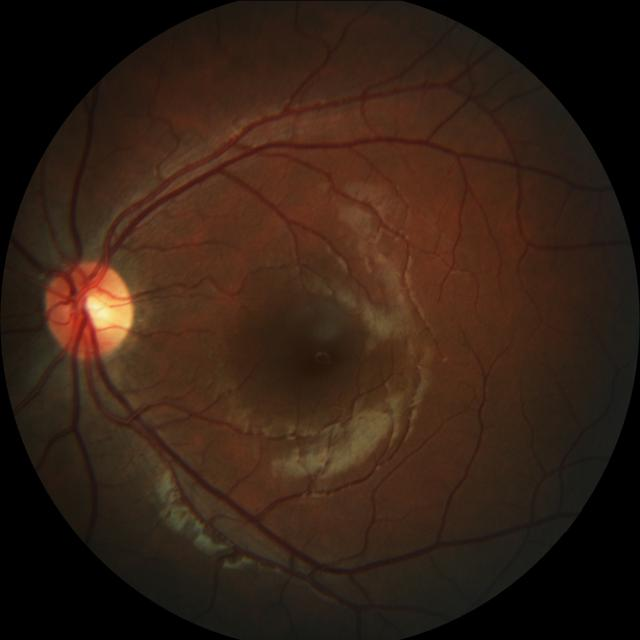OC: (70, 284, 114, 331)
OD: (43, 258, 132, 357)
